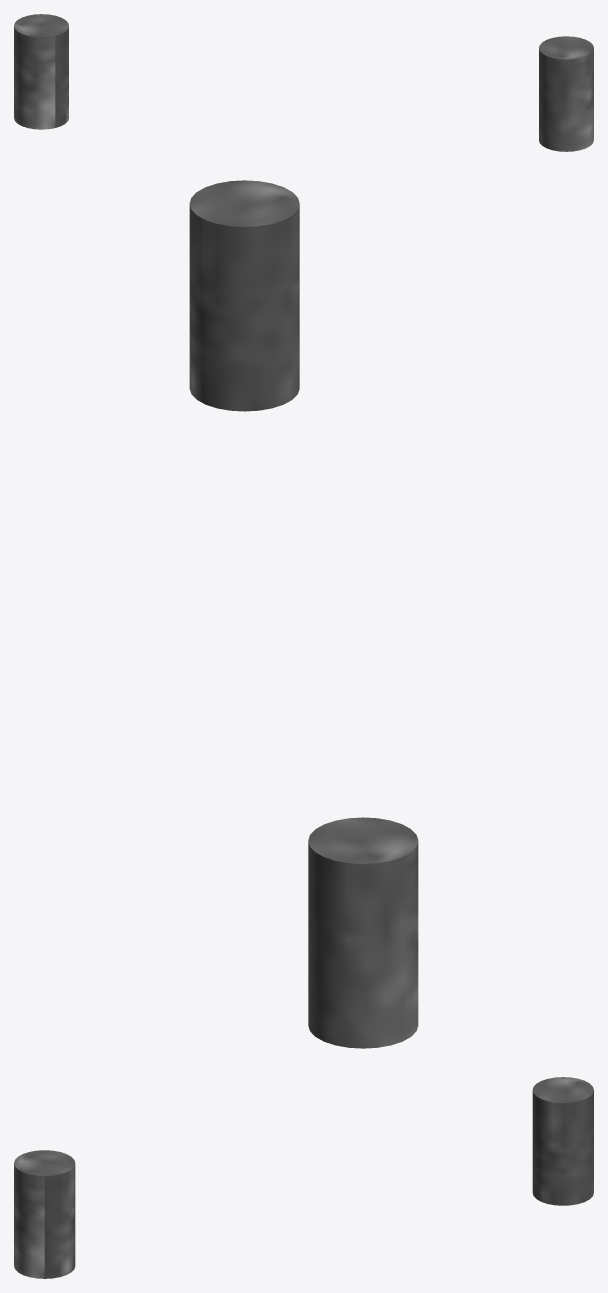
File: ADSK_72.obj
3 renders of one model, top to bottom at view 1: azimuth 30°, elevation 25°; view 2: azimuth 150°, elevation 25°; view 3: azimuth 270°, elevation 25°, orthographic. The views are drawn at different scales.
Bounding box in the file's own units: 0.4625 × 0.22 × 0.6137.
Materials: 1 (1 with a texture image).
